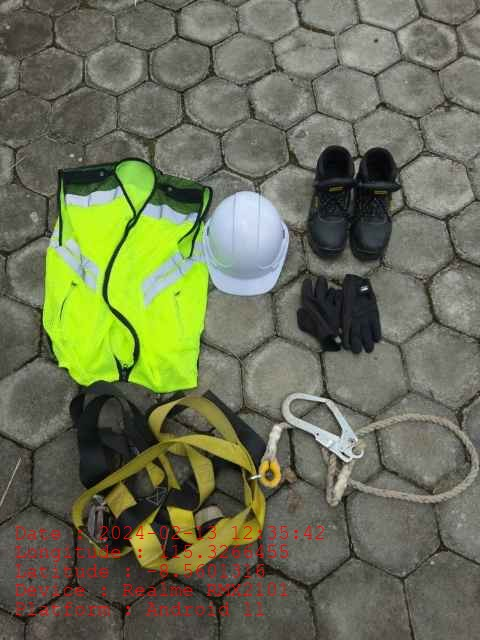HELM: (204, 192, 289, 295)
ROMPI: (48, 158, 204, 386)
SARUNG_TANGAN: (341, 274, 382, 353)
SEPATU: (307, 146, 400, 261)
TAMBANG_SLING: (259, 388, 479, 508)
